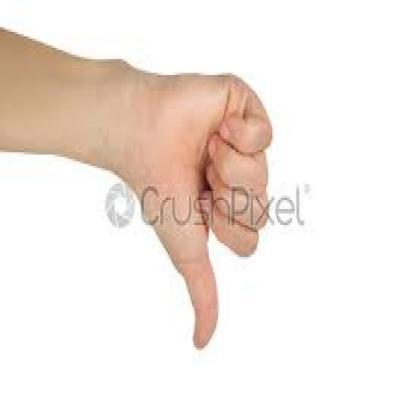thumb_down: (146, 63, 274, 350)
